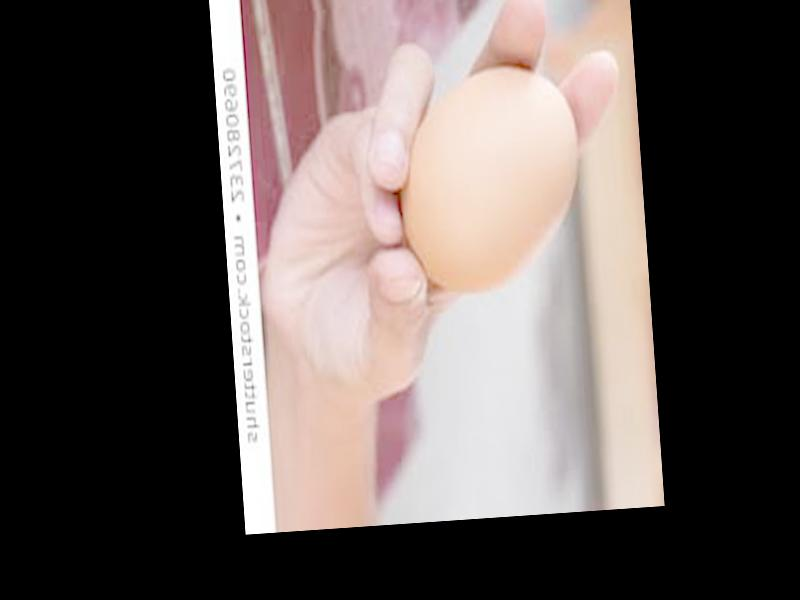Eggs: (394, 59, 585, 294)
